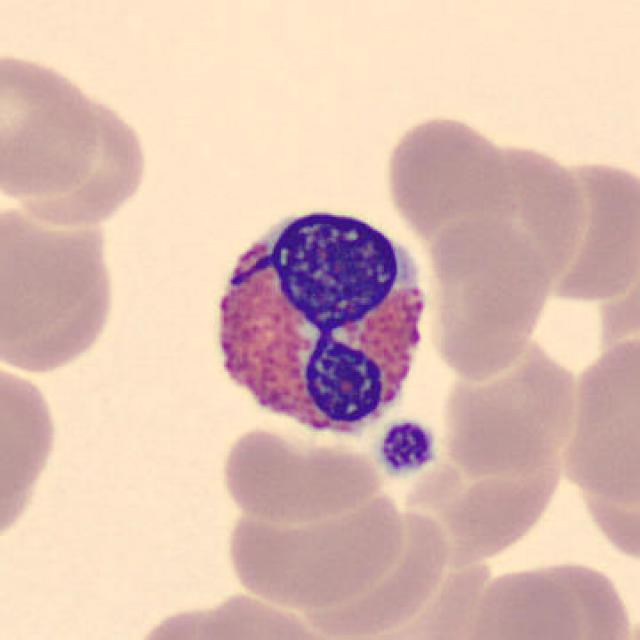Eosinophil: (197, 196, 439, 453)
Platelets: (375, 416, 439, 478)
RBC: (220, 478, 409, 612), (277, 499, 459, 638), (445, 143, 593, 307), (424, 205, 555, 383), (7, 79, 155, 231), (441, 338, 581, 480), (215, 418, 388, 525), (522, 154, 640, 308), (0, 188, 109, 354), (380, 111, 516, 233), (0, 48, 103, 202), (0, 238, 113, 375), (557, 331, 640, 517), (0, 352, 62, 554), (458, 562, 588, 640), (183, 589, 341, 640), (126, 600, 272, 638)
